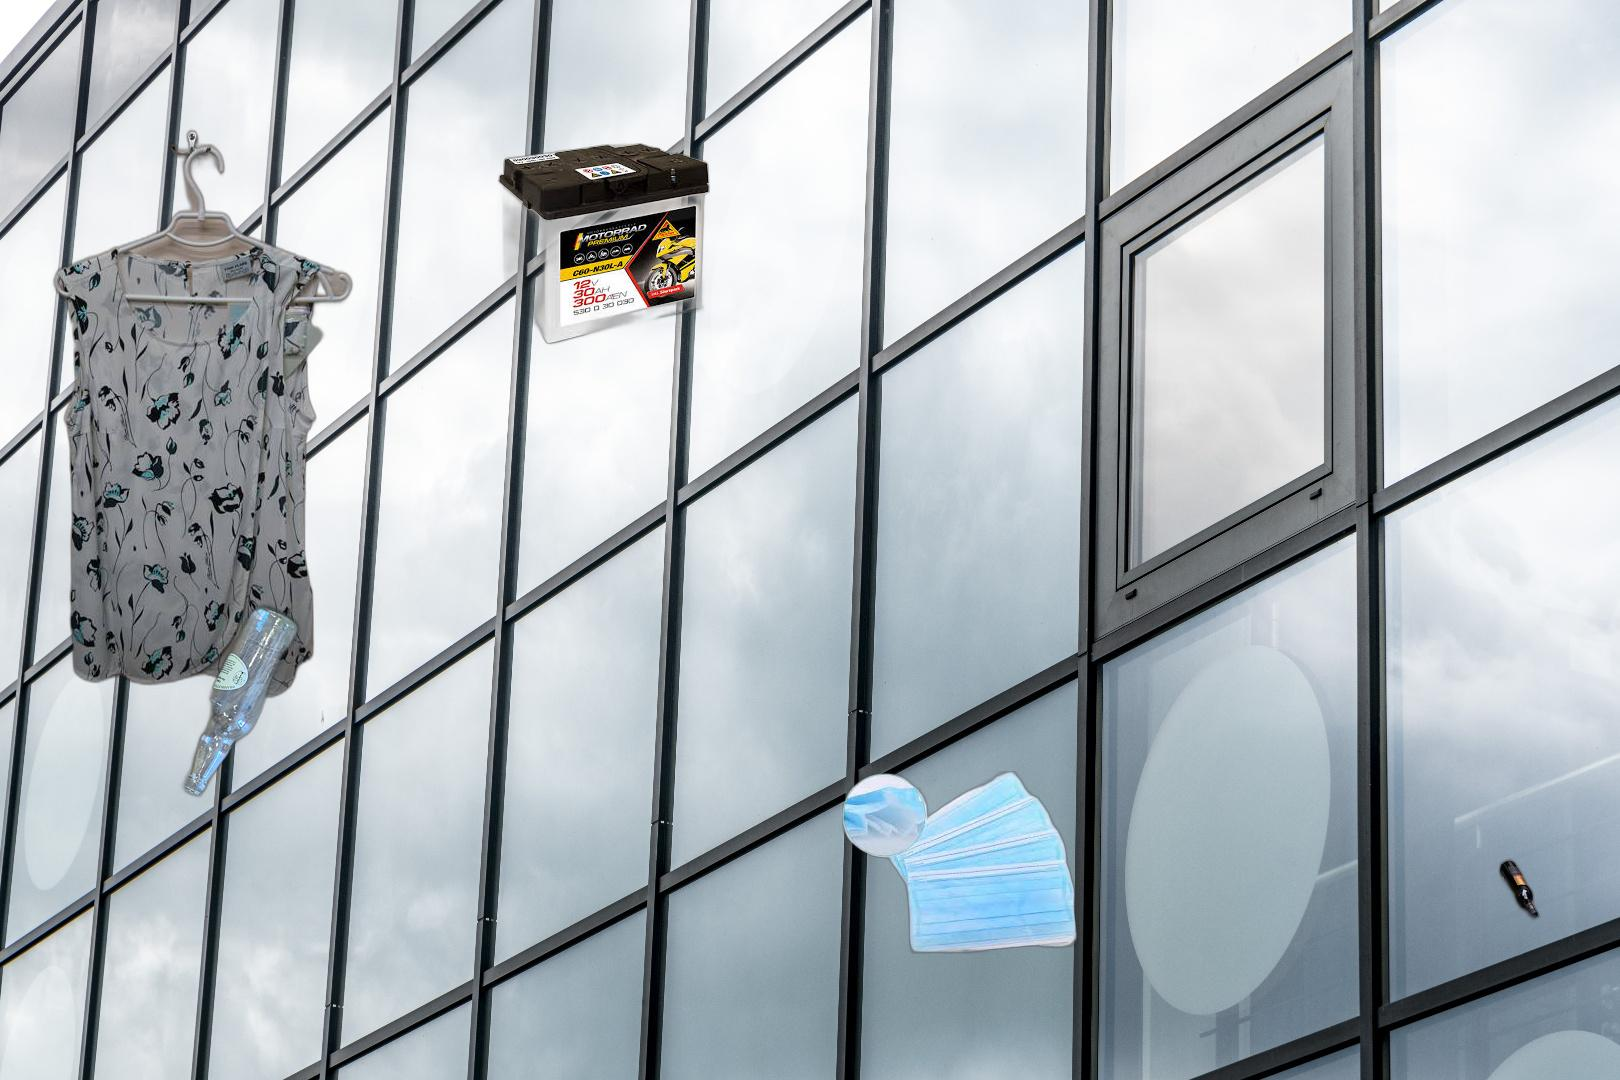battery: (497, 139, 711, 346)
clothes: (51, 124, 356, 703)
glass: (1317, 808, 1620, 1080), (178, 600, 303, 803)
trash: (843, 771, 1082, 953)
